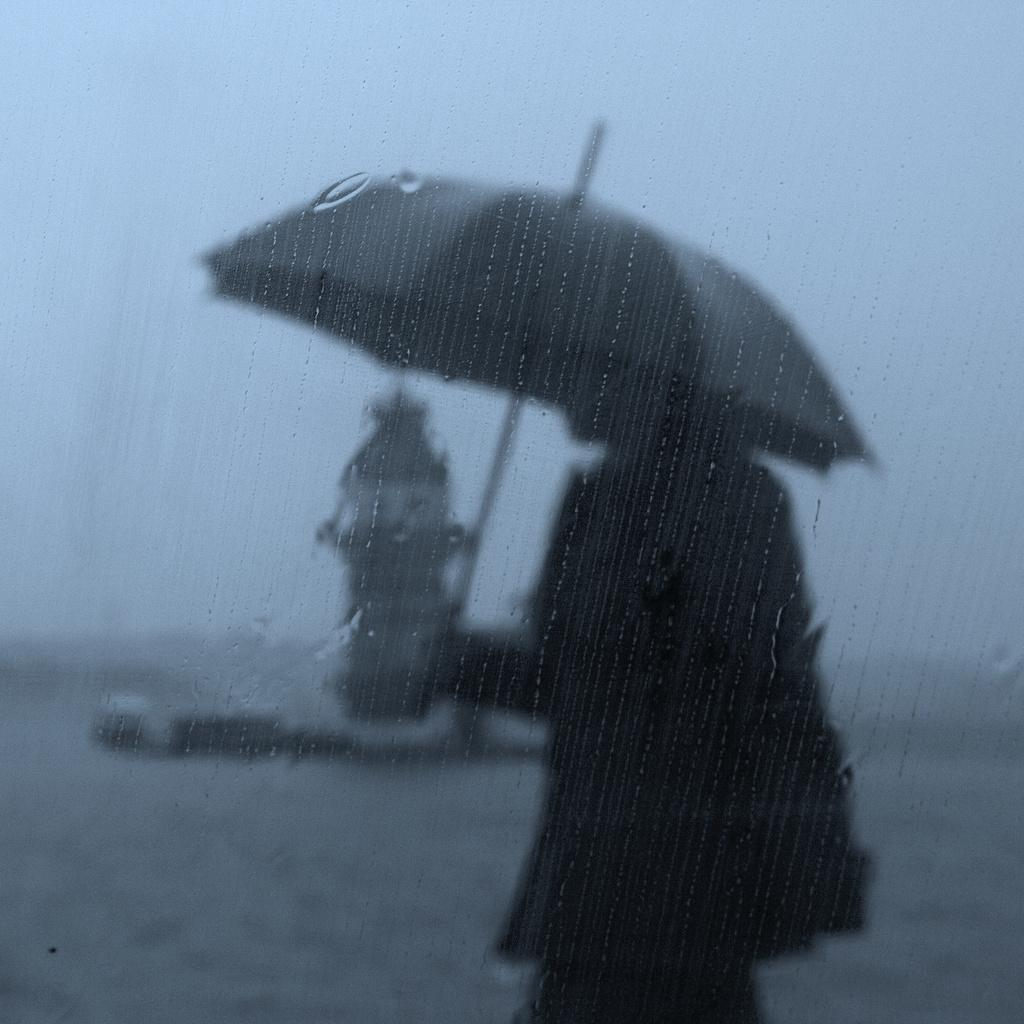umbrella: (190, 120, 886, 715)
